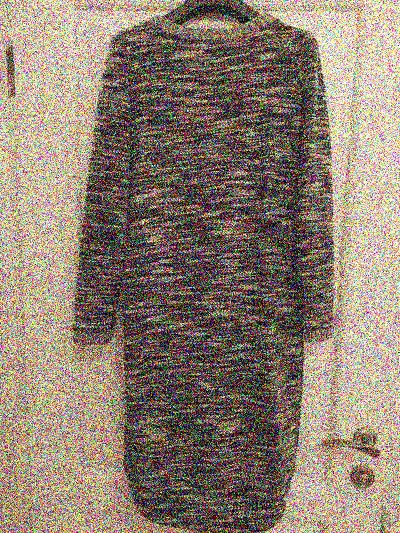Dress: (46, 7, 366, 523)
